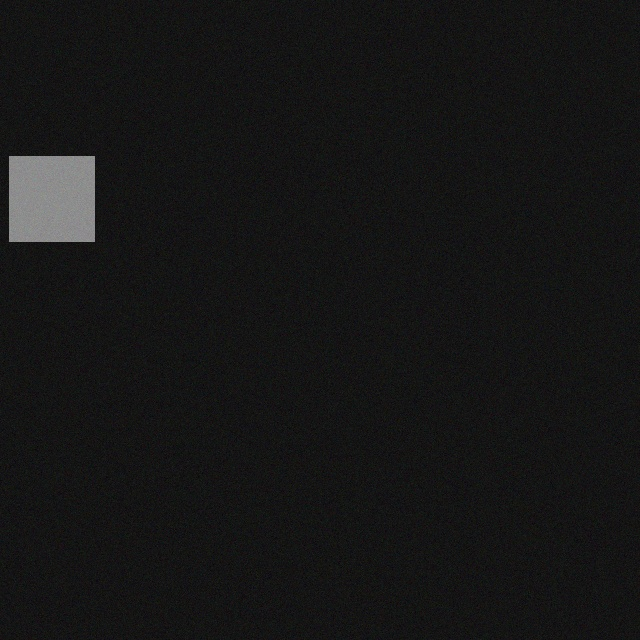square: (20, 156, 105, 241)
